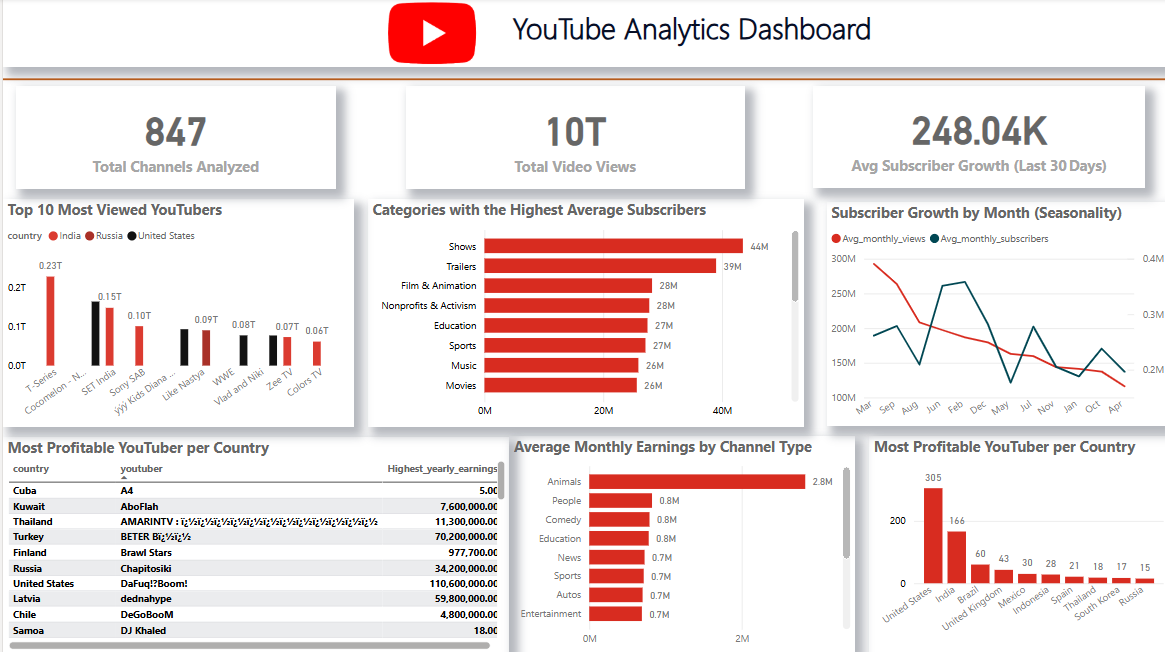

The dashboard page shown, as its layout file describes it:
{"tool":"powerbi","page":{"name":"Page 1","canvas":[1280,720],"ordinal":0},"visuals":[{"type":"clusteredColumnChart","title":"Top 10 Most Viewed YouTubers","fields":{"Category":["top_10_most_viewd.youtuber"],"Series":["top_10_most_viewd.country"],"Y":["top_10_most_viewd.video_views"]},"box":[0,221.1,384.5,249.3],"z":0},{"type":"tableEx","title":"Most Profitable YouTuber per Country","fields":{"Values":["most_profitable_ytber.country","most_profitable_ytber.youtuber","most_profitable_ytber.highest_yearly_earnings"]},"box":[0,481.2,556.2,238.8],"z":1000},{"type":"barChart","title":" Categories with the Highest Average Subscribers","fields":{"Category":["highest_cat_sub.category"],"Y":["highest_cat_sub.highest_sub"]},"box":[401.1,221.3,478.1,249.5],"z":2000},{"type":"columnChart","title":"Most Profitable YouTuber per Country","fields":{"Category":["most_yt_by_country.country"],"Y":["most_yt_by_country.most_youtubers"]},"box":[951.4,480,328.6,240],"z":3000},{"type":"lineChart","title":"Subscriber Growth by Month (Seasonality)","fields":{"Category":["sub_growth_month.created_month"],"Y":["sub_growth_month.avg_monthly_views"],"Y2":["sub_growth_month.avg_monthly_sub_growth"]},"box":[904.2,223.9,376.1,246.5],"z":4000},{"type":"clusteredBarChart","title":" Average Monthly Earnings by Channel Type","fields":{"Category":["channel_avg.channel_type"],"Y":["channel_avg.avg_earnings"]},"box":[556.4,480.8,379.5,239.7],"z":5000},{"type":"card","fields":{"Values":["total_youtubers.COUNT(*)"]},"box":[13.5,95.4,352.2,113.7],"z":6000},{"type":"card","fields":{"Values":["total_video_views.SUM(video_views)"]},"box":[441.2,96.2,372.5,113.8],"z":7000},{"type":"card","fields":{"Values":["Sum(avg_sub_growth.ROUND(AVG(subscribers_for_last_30_days),2))"]},"box":[888.8,96.2,365,112.5],"z":8000},{"type":"textbox","box":[0,0,1281.2,76.2],"z":9000},{"type":"shape","box":[0,70.5,1280.8,38.5],"z":10000},{"type":"image","box":[152.5,0,650,95],"z":10001}]}

Visuals, with their boxes in screenshot pixels (x1, y1, x2, y2), scaled from the page's 1280x720 canvas onto the 1165x652 screenshot:
"Top 10 Most Viewed YouTubers" clusteredColumnChart: (0, 200, 350, 426)
"Most Profitable YouTuber per Country" tableEx: (0, 436, 506, 651)
" Categories with the Highest Average Subscribers" barChart: (365, 200, 800, 426)
"Most Profitable YouTuber per Country" columnChart: (866, 435, 1164, 651)
"Subscriber Growth by Month (Seasonality)" lineChart: (823, 203, 1164, 426)
" Average Monthly Earnings by Channel Type" clusteredBarChart: (506, 435, 852, 651)
card - total_youtubers.COUNT(*): (12, 86, 333, 189)
card - total_video_views.SUM(video_views): (402, 87, 741, 190)
card - Sum(avg_sub_growth.ROUND(AVG(subscribers_for_last_30_days),2)): (809, 87, 1141, 189)
textbox: (0, 0, 1164, 69)
shape: (0, 64, 1164, 99)
image: (139, 0, 730, 86)
